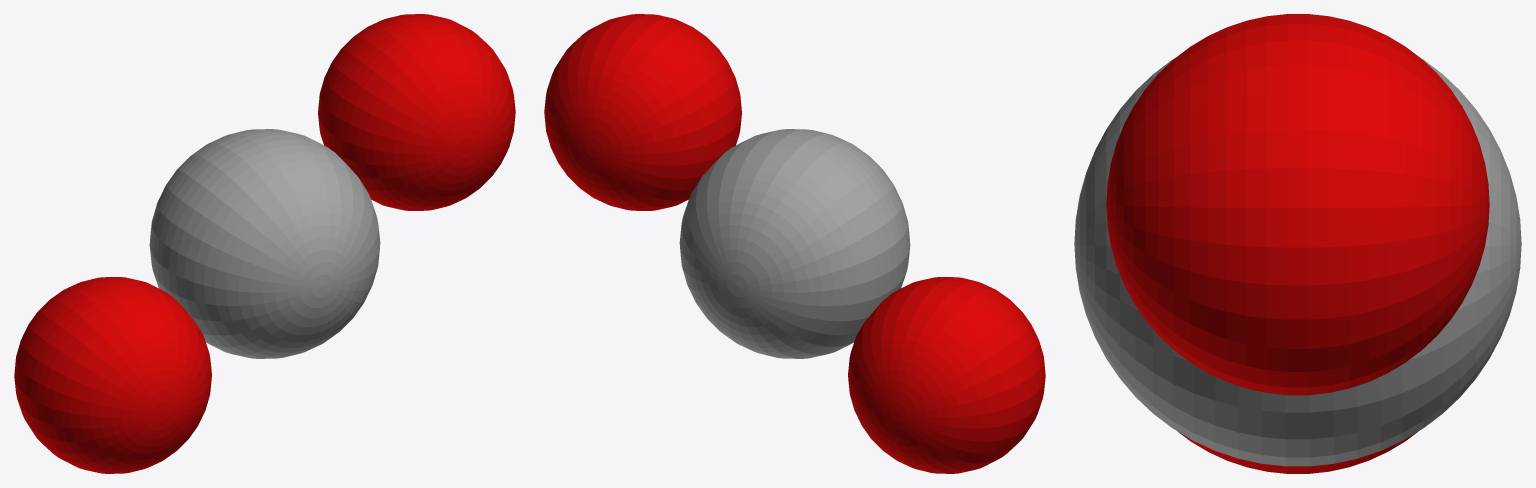
The model's file is Carbon Dioxide.glb.
3 views of the same model, side by side, from view 1: azimuth 30°, elevation 25°; view 2: azimuth 150°, elevation 25°; view 3: azimuth 270°, elevation 25° (orthographic). The views are drawn at different scales.
Visible parts, largest first — view 1: world; view 2: world; view 3: world.
Part boxes in pixels (left/top/right/bottom): world: left=14, top=14, right=515, bottom=473; world: left=544, top=14, right=1045, bottom=473; world: left=1074, top=14, right=1521, bottom=473.
Bounding box in the file's own units: 3.33 × 2.46 × 1.4.
